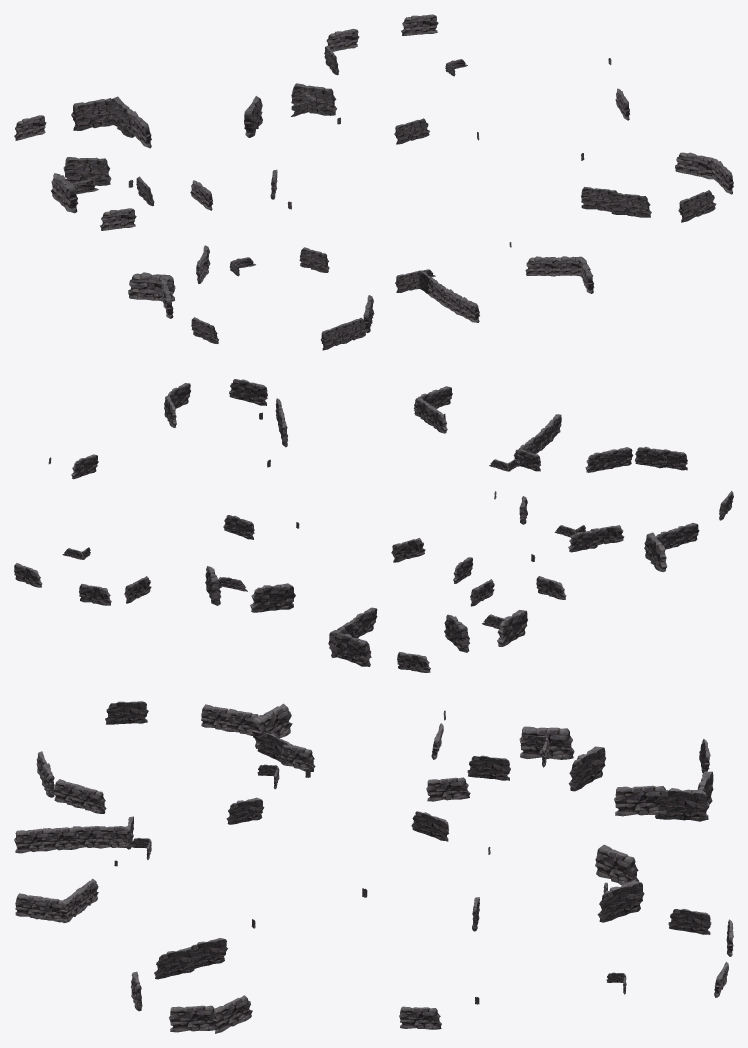
File: RockFencesBlock1.FBX
The picture shows the model from 3 angles, top to bottom: view 1: azimuth 30°, elevation 25°; view 2: azimuth 150°, elevation 25°; view 3: azimuth 270°, elevation 25°; orthographic projection. The views are drawn at different scales.
Visible parts, largest first — view 1: polySurface279; view 2: polySurface279; view 3: polySurface279.
Part boxes in pixels (x1=…): polySurface279: x1=14, y1=14, x2=733, y2=350; polySurface279: x1=14, y1=379, x2=733, y2=672; polySurface279: x1=14, y1=701, x2=733, y2=1033.
Bounding box in the file's own units: 10245 × 931 × 9839.
